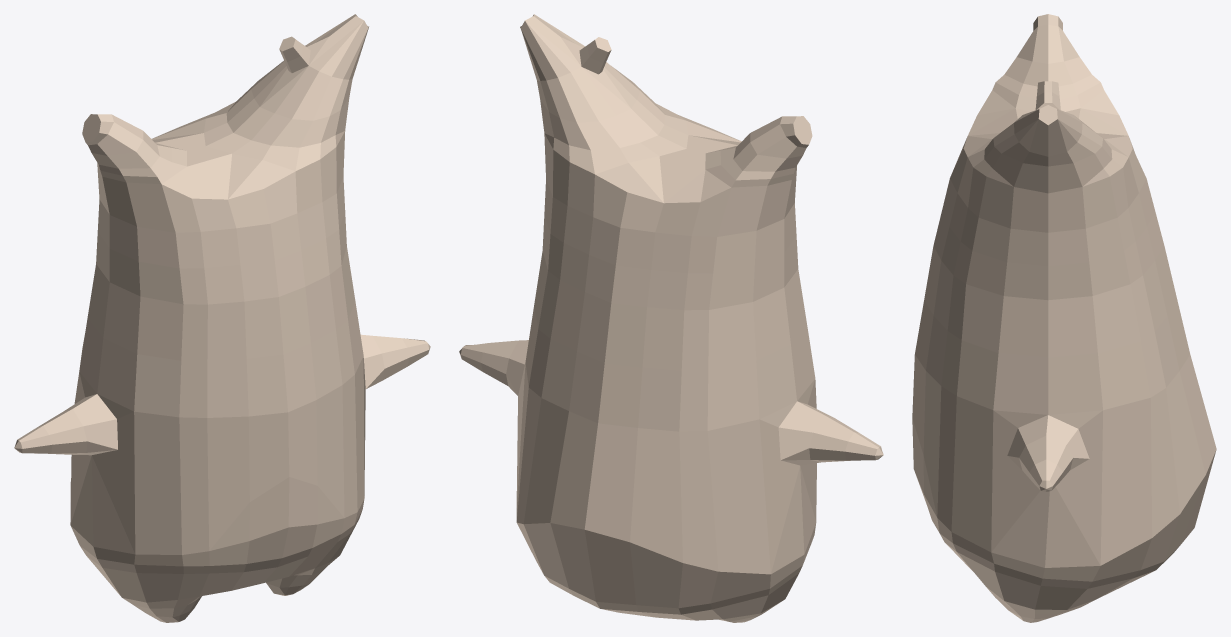
The model's file is frame_0049.obj.
3 views of the same model, side by side, from view 1: azimuth 30°, elevation 25°; view 2: azimuth 150°, elevation 25°; view 3: azimuth 270°, elevation 25° (orthographic).
Parts seen in each view (by area): view 1: korok; view 2: korok; view 3: korok.
Boxes of the visible parts, x1,y1,x2,y2 form: korok: [14, 14, 430, 622]; korok: [459, 14, 883, 622]; korok: [912, 14, 1216, 622].
Bounding box in the file's own units: 1.68 × 2.13 × 1.06.
